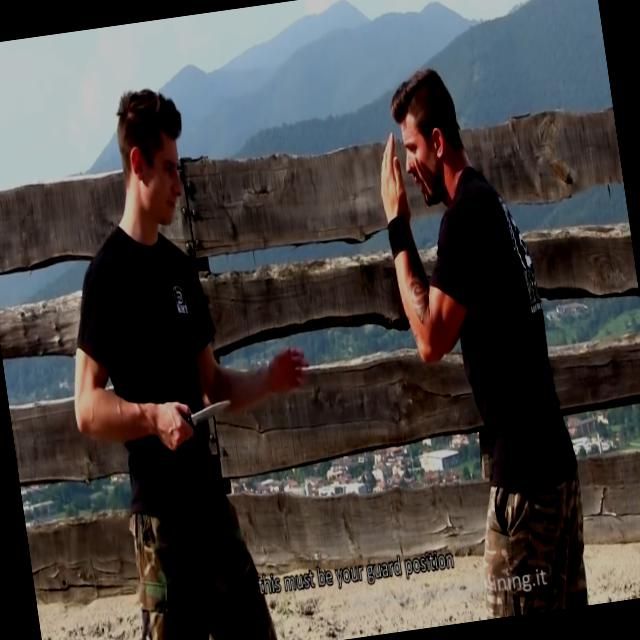knife: (154, 388, 242, 457)
